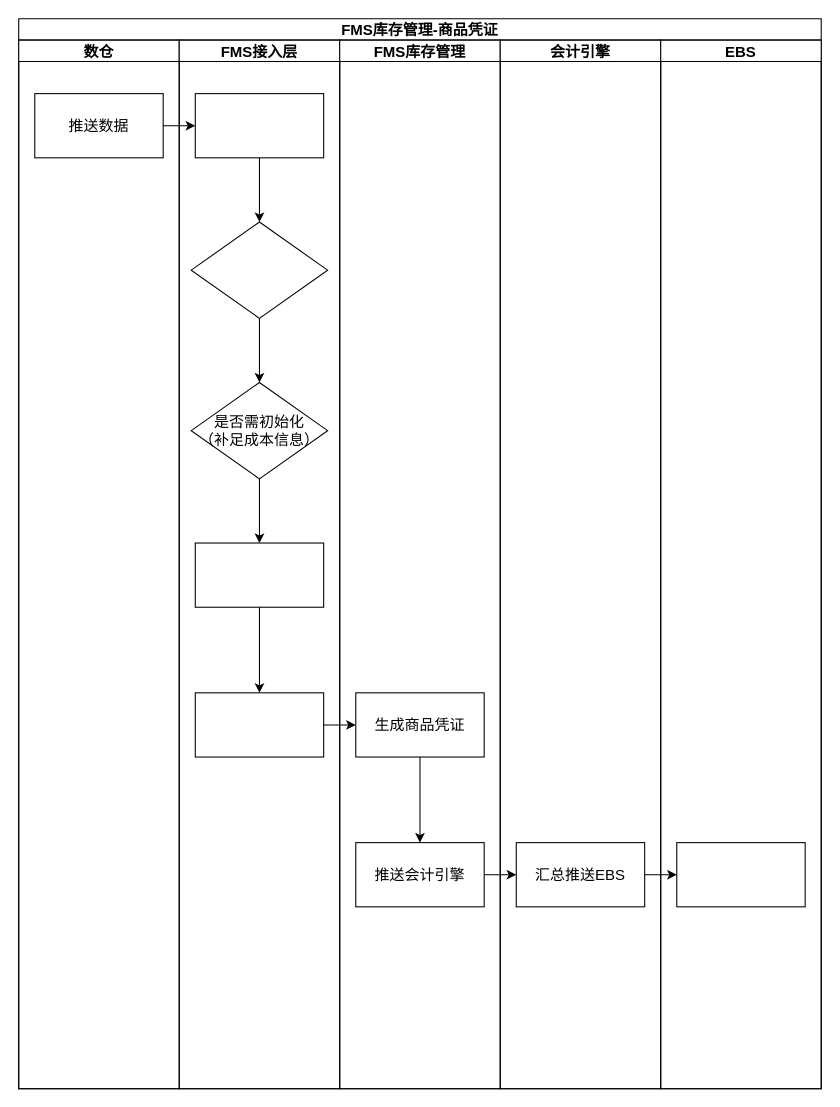
Some shapes in this 840 by 1107 pixel diagram are drawn without their labels. The centre of each missing label's shape, as x and y in pixels:
"初始化" belongs at pixel 259 574.
"接收凭证" belongs at pixel 740 874.
"接收数据 状态=>待初始化" belongs at pixel 259 125.
"推送库存管理" belongs at pixel 259 724.
"是否需处理" belongs at pixel 259 269.
